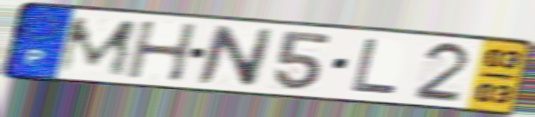2: (411, 40, 475, 105)
5: (271, 28, 335, 93)
H: (125, 19, 201, 83)
L: (348, 36, 401, 98)
M: (52, 16, 141, 78)
N: (193, 23, 277, 90)
